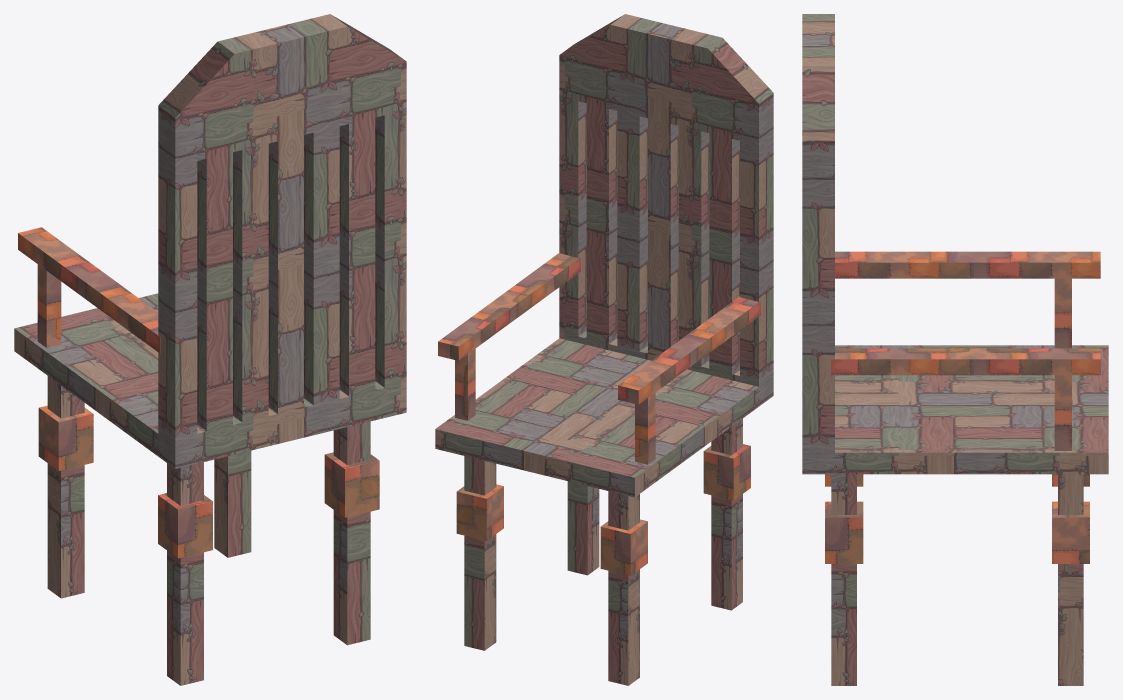
File: throne.glb
3 views of the same model, side by side, from view 1: azimuth 30°, elevation 25°; view 2: azimuth 150°, elevation 25°; view 3: azimuth 270°, elevation 25° (orthographic). The views are drawn at different scales.
Parts seen in each view (by area): view 1: Box010, Box009, Box007, Box006, Box004, Box014, Box001, Box008, Box003, Box005, Box013; view 2: Box010, Box009, Box001, Box004, Box011, Box014, Box006, Box007, Box003, Box002, Box005, Box013 (+1 smaller); view 3: Box009, Box010, Box011, Box014, Box001, Box007, Box008, Box002, Box012, Box013.
Boxes of the visible parts, bbox=[...] form: Box010: bbox=[158, 14, 406, 468]; Box009: bbox=[14, 293, 173, 466]; Box007: bbox=[333, 421, 370, 645]; Box006: bbox=[167, 462, 203, 685]; Box004: bbox=[47, 376, 84, 598]; Box014: bbox=[18, 227, 160, 353]; Box001: bbox=[214, 450, 251, 557]; Box008: bbox=[324, 452, 379, 517]; Box003: bbox=[38, 405, 93, 470]; Box005: bbox=[158, 493, 212, 558]; Box013: bbox=[37, 264, 61, 347]; Box010: bbox=[559, 14, 773, 406]; Box009: bbox=[435, 338, 772, 497]; Box001: bbox=[464, 456, 496, 650]; Box004: bbox=[608, 491, 639, 685]; Box011: bbox=[438, 253, 580, 360]; Box014: bbox=[618, 296, 760, 404]; Box006: bbox=[711, 418, 742, 610]; Box007: bbox=[567, 481, 599, 575]; Box003: bbox=[600, 519, 647, 575]; Box002: bbox=[456, 484, 503, 540]; Box005: bbox=[703, 444, 750, 500]; Box013: bbox=[635, 392, 655, 464]; Box009: bbox=[805, 345, 1108, 474]; Box010: bbox=[802, 14, 834, 474]; Box011: bbox=[831, 348, 1100, 375]; Box014: bbox=[835, 251, 1100, 278]; Box001: bbox=[1058, 474, 1083, 685]; Box007: bbox=[831, 474, 856, 685]; Box008: bbox=[825, 501, 863, 563]; Box002: bbox=[1052, 501, 1089, 563]; Box012: bbox=[1054, 375, 1071, 450]; Box013: bbox=[1054, 278, 1071, 348].
Bounding box in the file's own units: 185197 × 482467 × 222342.
2 materials, 2 textured.
